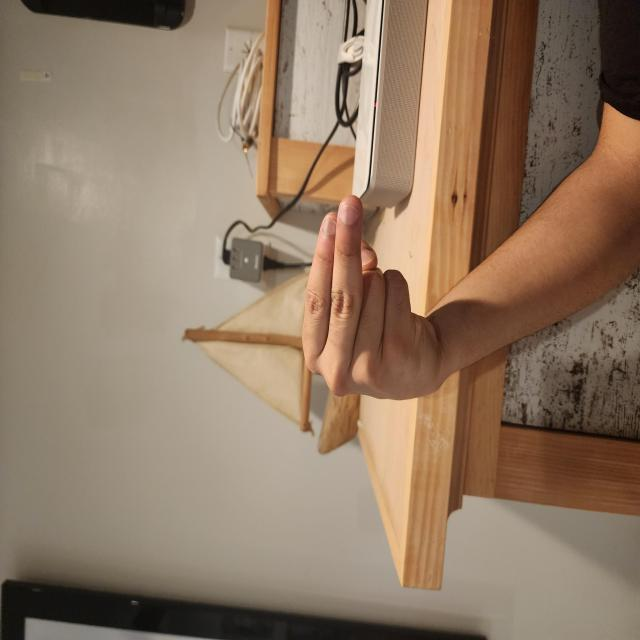H: (176, 400, 338, 595)
